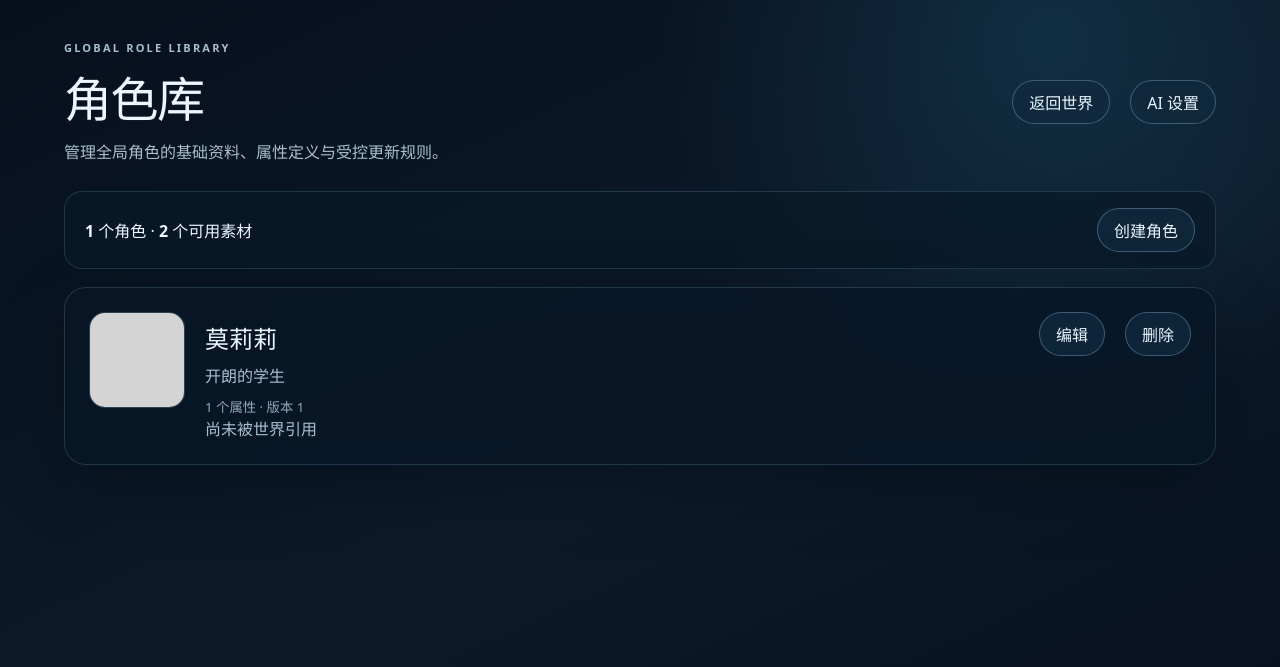
RoleLibraryPage › fixes the role name to the selected asset and keeps saved names immutable
The image size is (1280, 667).
Click the button with aria-label "编辑角色 莫莉莉" at (1072, 334), box left=1039, top=312, right=1105, bottom=356
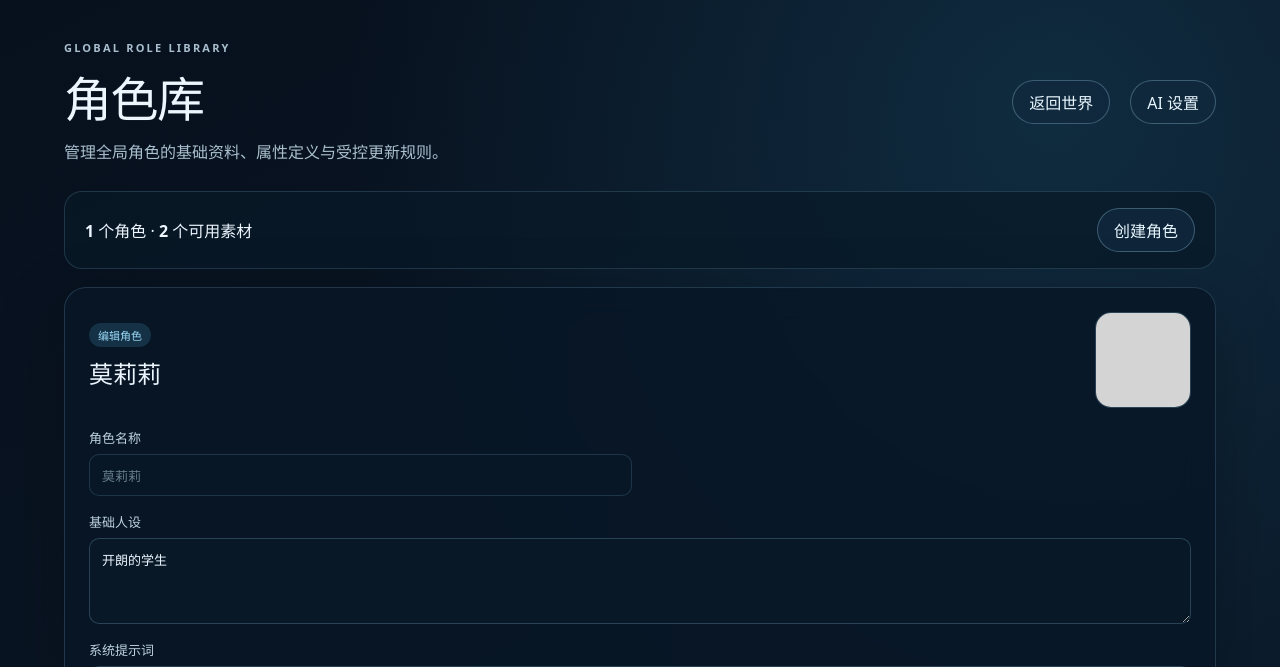
Check: the field labelled "角色名称" holds "莫莉莉", box left=89, top=454, right=632, bottom=496
Check: the field labelled "角色名称" is disabled, box left=89, top=454, right=632, bottom=496
